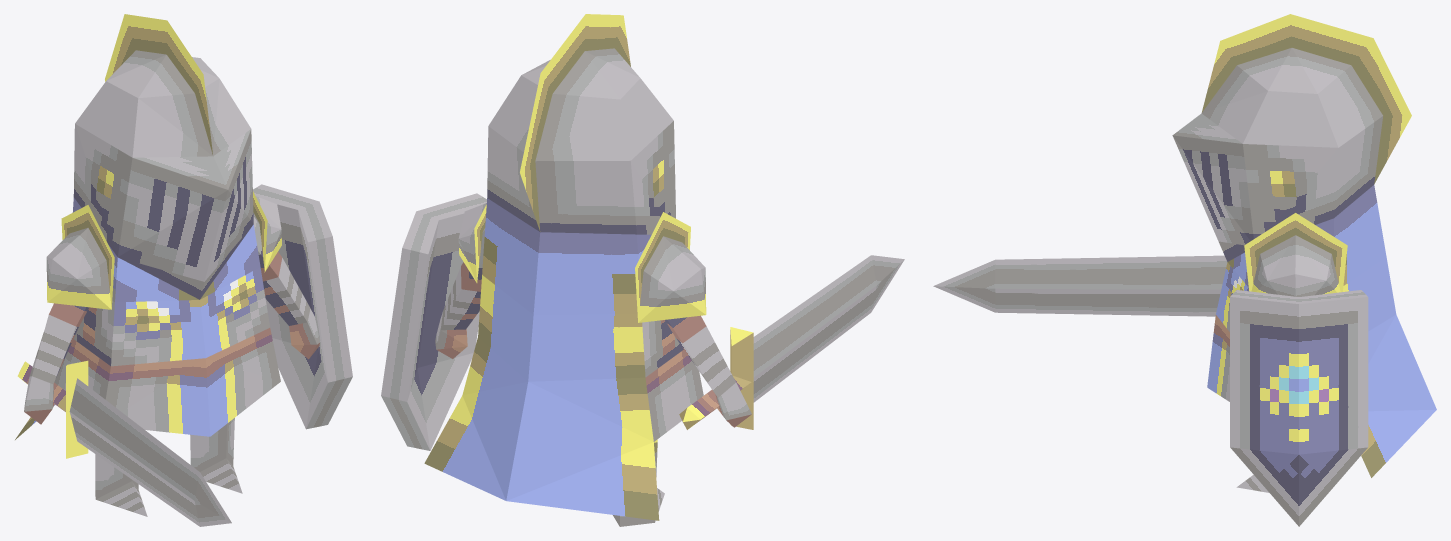
The model's file is knight.glb.
3 renders of one model, left to right at view 1: azimuth 30°, elevation 25°; view 2: azimuth 150°, elevation 25°; view 3: azimuth 270°, elevation 25°, orthographic. The views are drawn at different scales.
Parts seen in each view (by area): view 1: knight; view 2: knight; view 3: knight.
Part boxes in pixels (<box>): knight: <box>15,14,352,526</box>; knight: <box>381,14,904,526</box>; knight: <box>933,14,1436,526</box>.
Bounding box in the file's own units: 103 × 140 × 141.
1 material, 1 textured.
